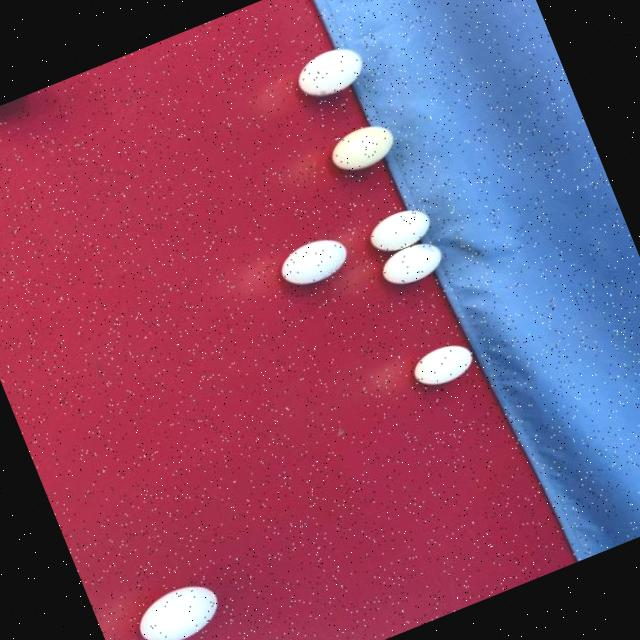ping-pong-ball: (126, 574, 227, 640), (284, 38, 372, 108), (270, 229, 356, 296), (322, 115, 403, 182), (359, 200, 438, 261), (404, 334, 480, 396), (372, 234, 450, 294)
